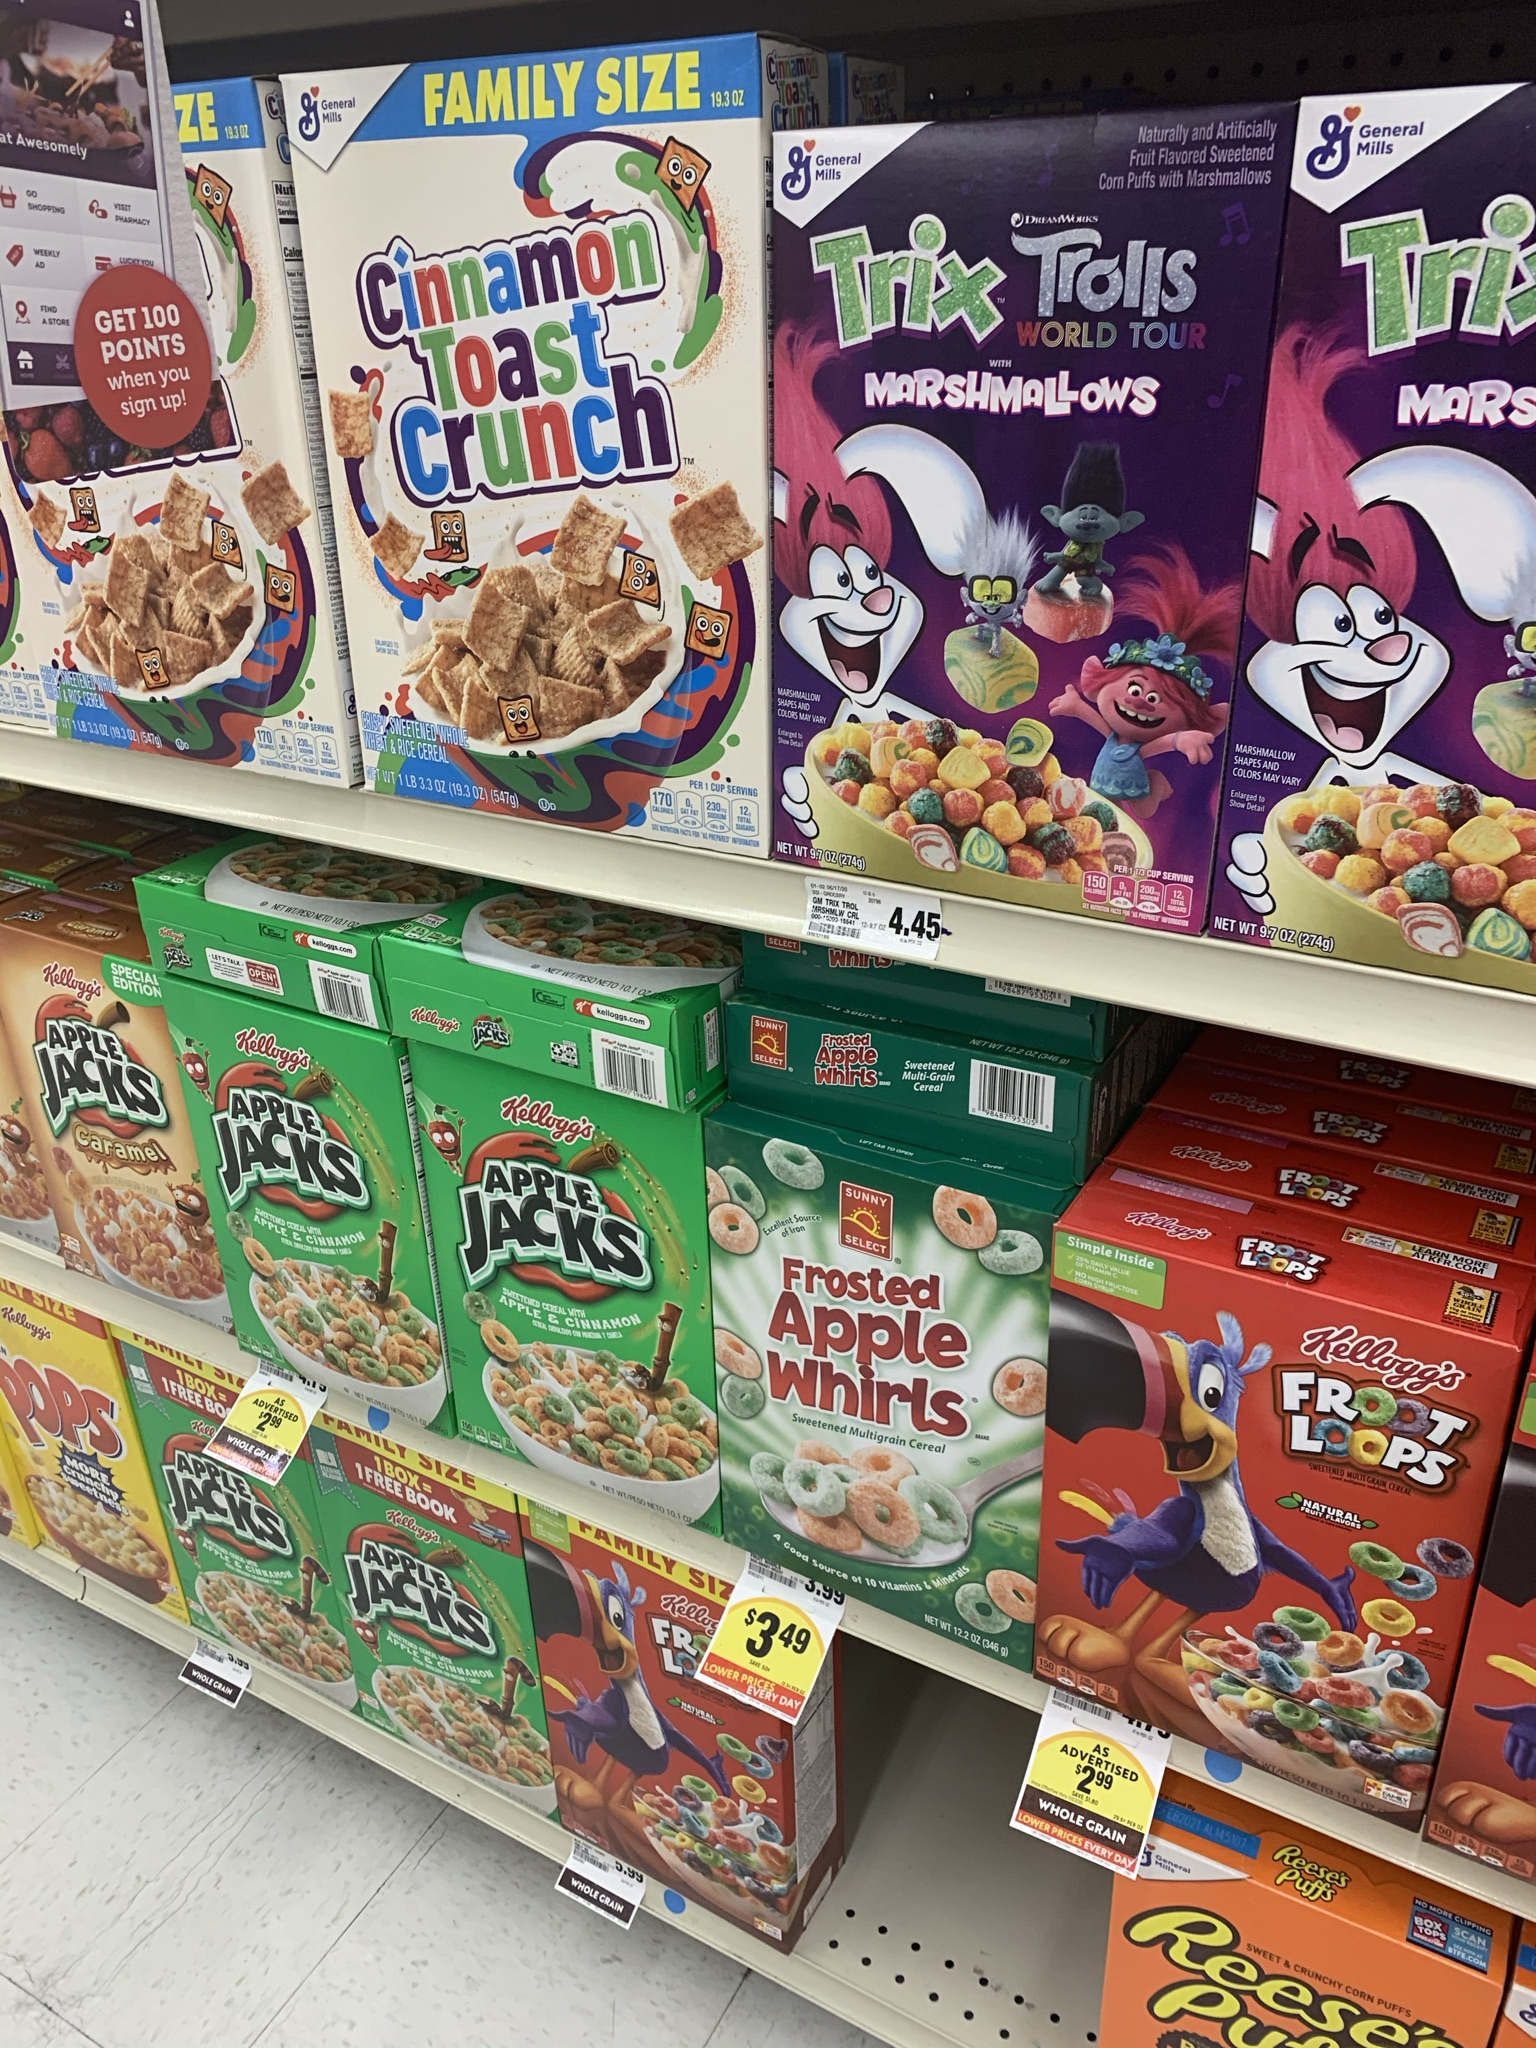box: (792, 147, 1191, 874), (342, 153, 763, 800), (1058, 1292, 1459, 1672), (731, 1184, 1042, 1561), (431, 1087, 708, 1443), (215, 1047, 424, 1351), (349, 1480, 529, 1732), (39, 985, 186, 1251), (173, 1476, 328, 1638), (8, 1350, 106, 1527)
